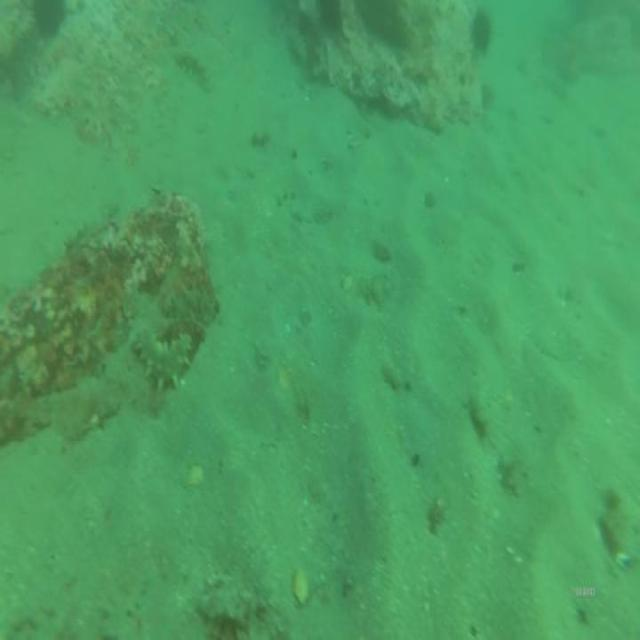echinus: (469, 5, 495, 49)
holothurian: (127, 322, 195, 397), (172, 46, 210, 88)
